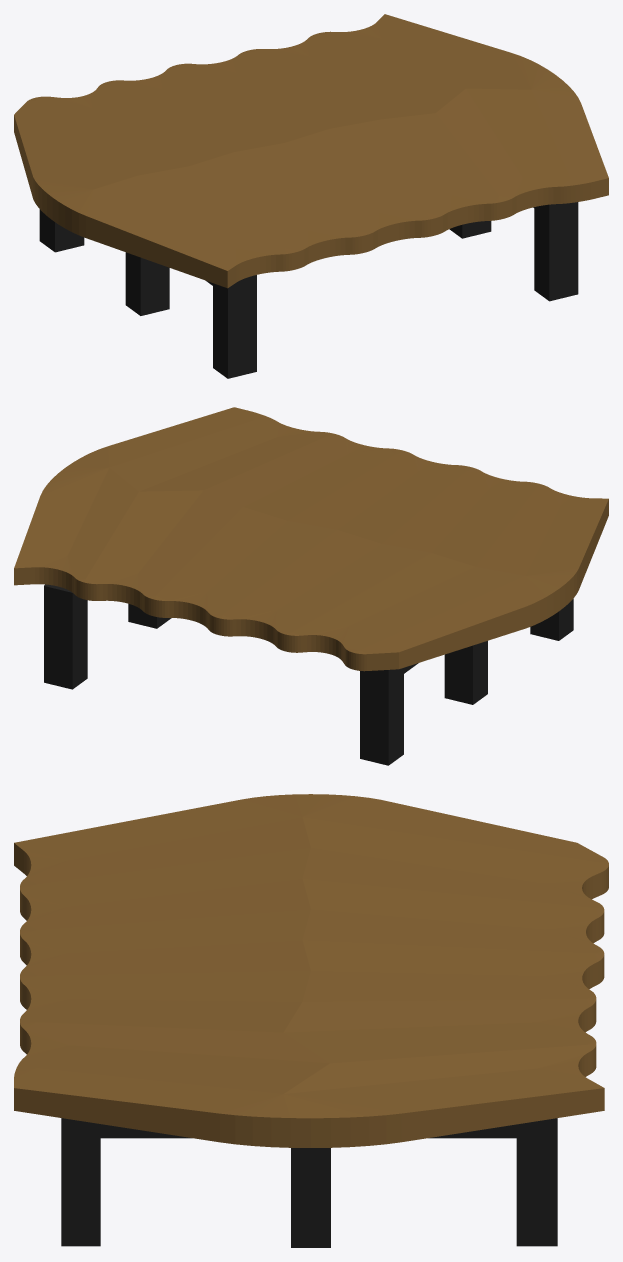
File: meeja.fbx
3 renders of one model, top to bottom at view 1: azimuth 30°, elevation 25°; view 2: azimuth 150°, elevation 25°; view 3: azimuth 270°, elevation 25°, orthographic. The views are drawn at different scales.
Visible parts, largest first — view 1: Cube; view 2: Cube; view 3: Cube.
Boxes of the visible parts, box(x1,y1,x2,y2) form: Cube: box(14, 14, 608, 378); Cube: box(14, 407, 608, 765); Cube: box(14, 794, 608, 1247).
Size of the model in its own units: 253 by 64.66 by 196.
